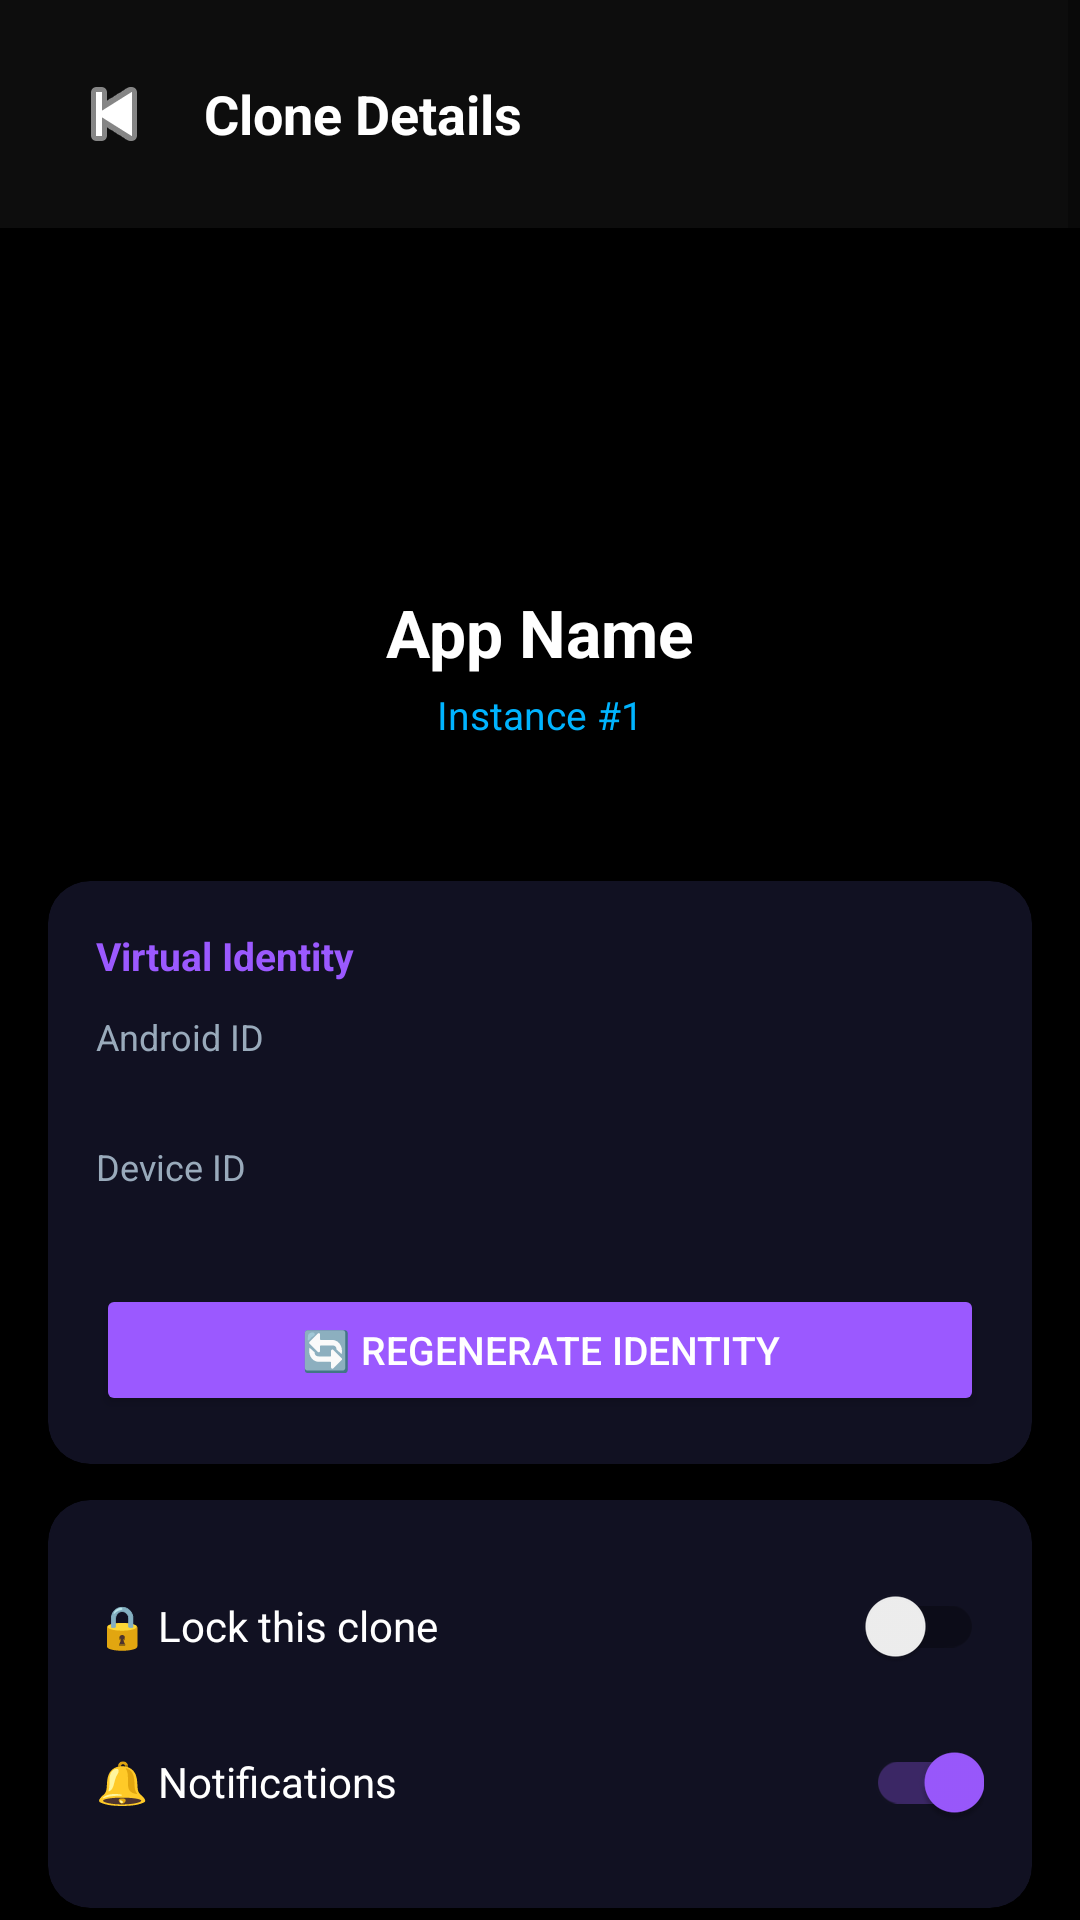

Locate icon controls on the screen. Image size 1080 x 1920, boxes as [x1=x1, y1=y1, x2=x2, y2=y2].
previous: [x1=91, y1=87, x2=137, y2=141]
